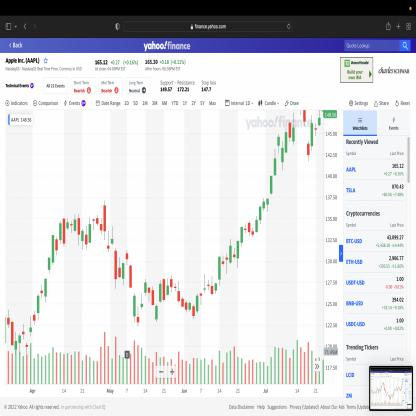Bearish 3 Black Crows: (177, 278, 188, 315)
Bearish Abandoned Baby: (122, 248, 132, 290)
Bearish Engulfing: (73, 212, 81, 248), (58, 216, 66, 247)
Bullish 3 White Soldiers: (43, 233, 55, 306), (269, 132, 280, 196), (254, 196, 266, 236)
